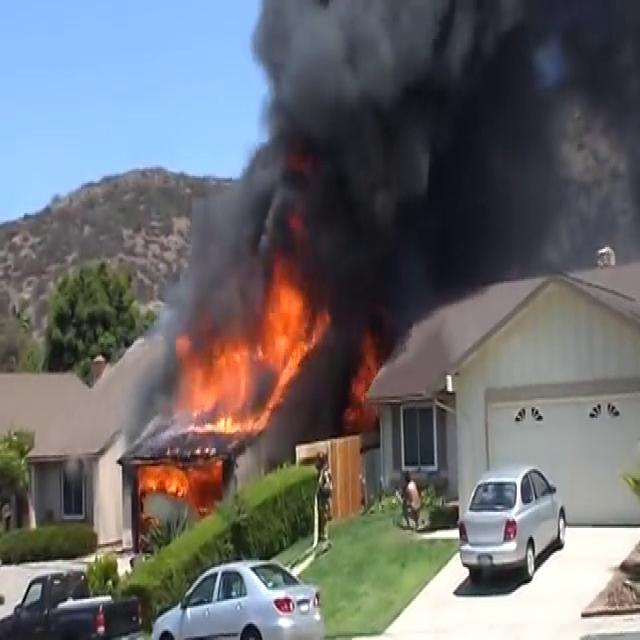Fire: (174, 268, 322, 434), (134, 456, 202, 496)
Smoke: (188, 0, 558, 341)
